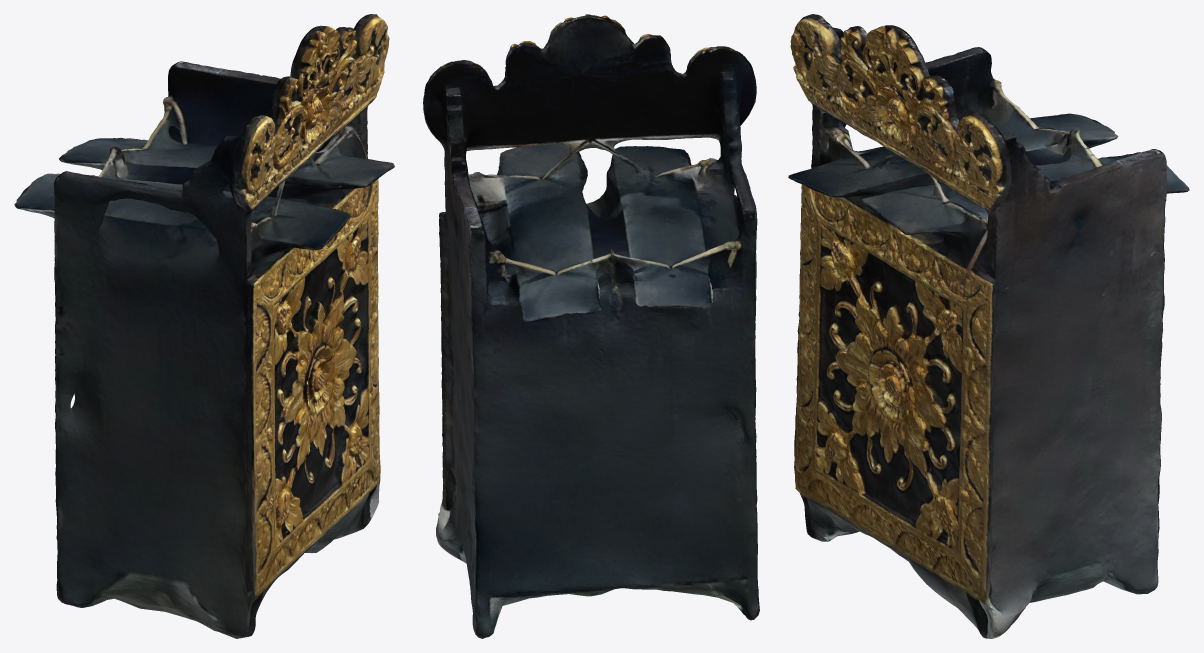
The model's file is rincik.glb.
The picture shows the model from 3 angles, left to right: view 1: azimuth 30°, elevation 25°; view 2: azimuth 150°, elevation 25°; view 3: azimuth 270°, elevation 25°; orthographic projection. The views are drawn at different scales.
Parts seen in each view (by area): view 1: Mesh_0.004; view 2: Mesh_0.004; view 3: Mesh_0.004.
Part boxes in pixels (x1=…): Mesh_0.004: x1=14, y1=14, x2=394, y2=638; Mesh_0.004: x1=423, y1=14, x2=759, y2=638; Mesh_0.004: x1=788, y1=14, x2=1189, y2=638.
Size of the model in its own units: 0.5146 by 0.8058 by 0.5135.
Materials: 1 (1 with a texture image).
